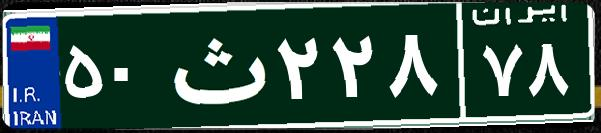0: (110, 28, 158, 105)
2: (273, 28, 330, 110), (330, 28, 385, 110)
5: (57, 26, 110, 107)
7: (475, 38, 525, 113)
8: (385, 28, 445, 110), (525, 38, 570, 115)
ث: (158, 15, 273, 115)
